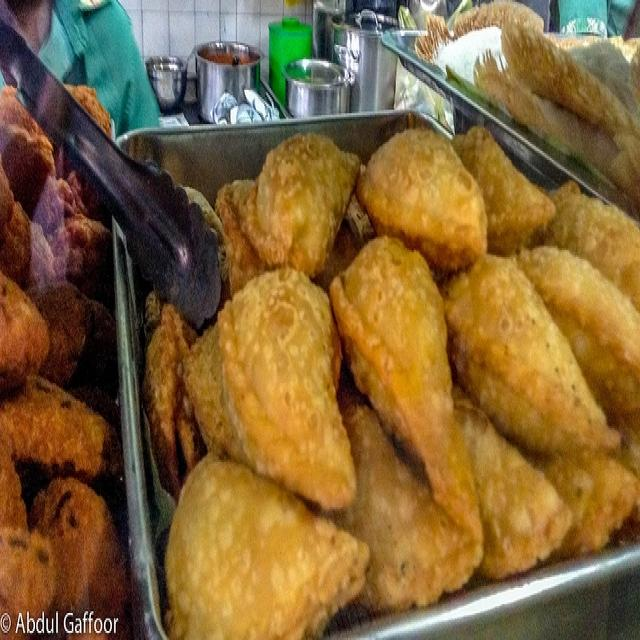炸货点心: (114, 86, 628, 613)
